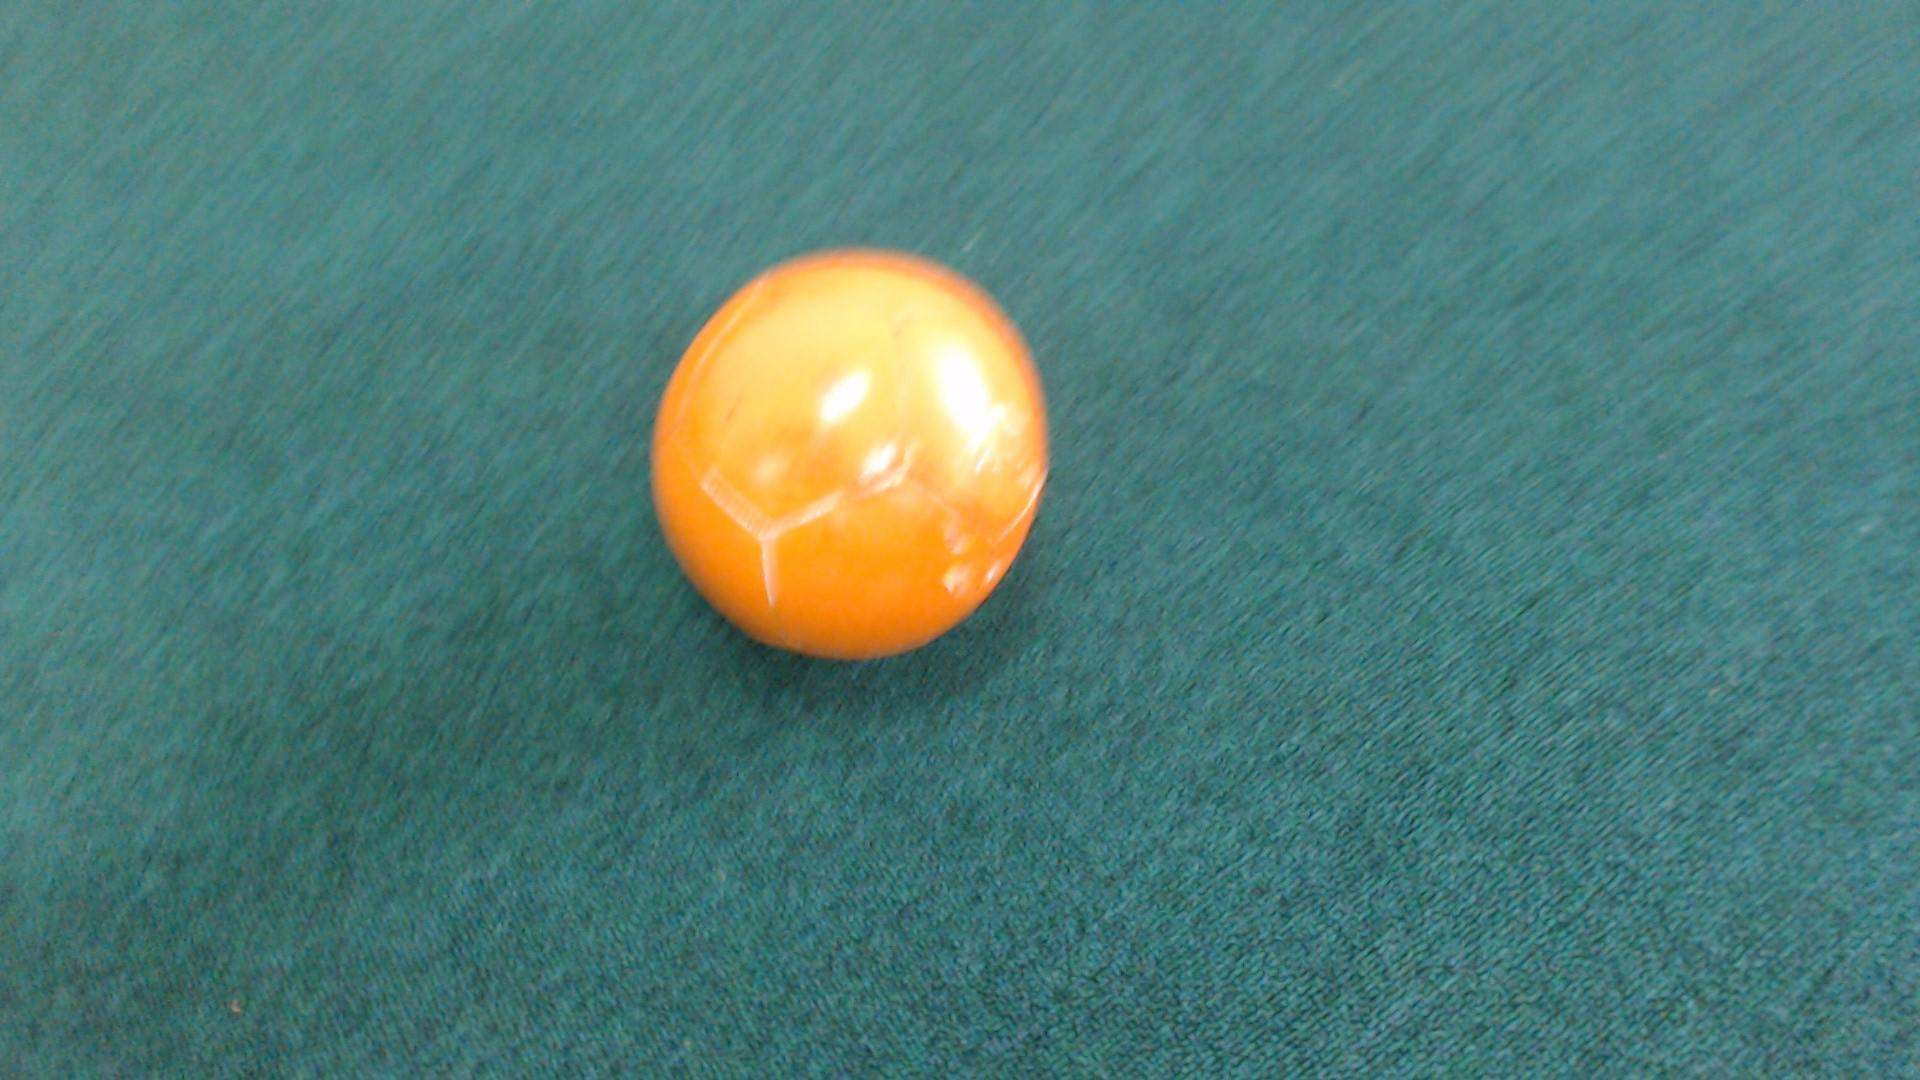bola: (618, 231, 1076, 688)
